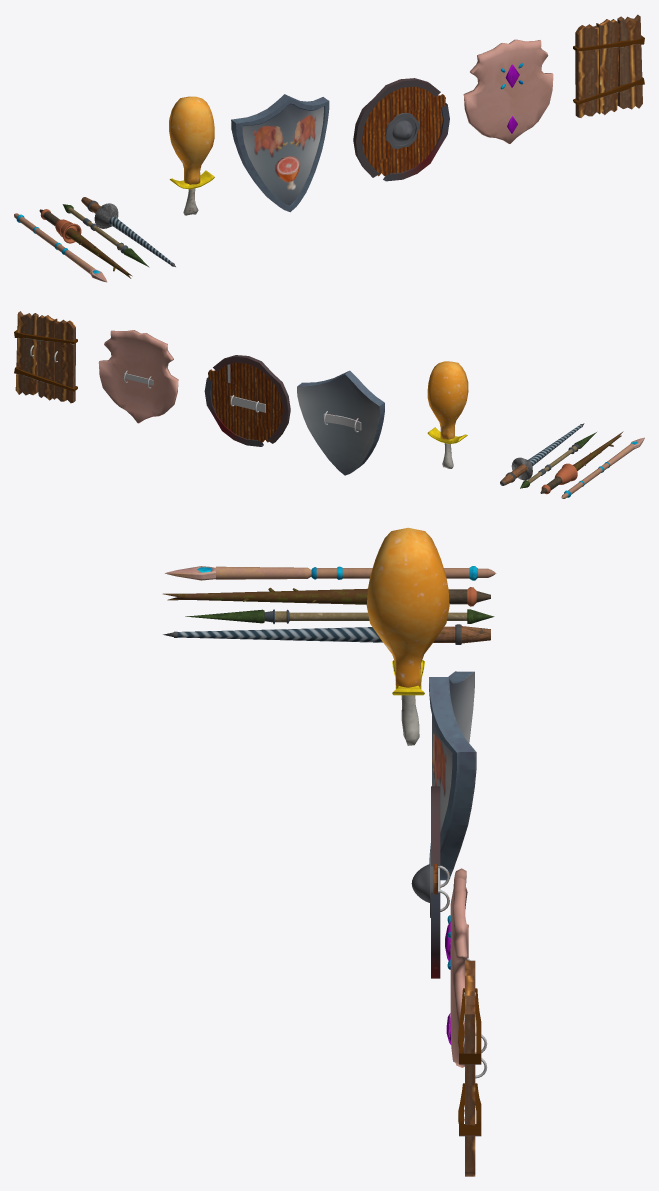
File: SM_Wepon_Pack.fbx
3 views of the same model, one above another, from view 1: azimuth 30°, elevation 25°; view 2: azimuth 150°, elevation 25°; view 3: azimuth 270°, elevation 25° (orthographic). The views are drawn at different scales.
Parts seen in each view (by area): view 1: SM_Kniels_Shield, SM_Borris_Shield, SM_Penelope_Shield, SM_Herberts_shield, SM_Drumstick, SM_Kniels_lance, SM_Herberts_lance, SM_Penelope_lance, SM_Borris_Lance; view 2: SM_Kniels_Shield, SM_Borris_Shield, SM_Penelope_Shield, SM_Herberts_shield, SM_Drumstick, SM_Kniels_lance, SM_Herberts_lance, SM_Penelope_lance, SM_Borris_Lance; view 3: SM_Drumstick, SM_Kniels_Shield, SM_Herberts_shield, SM_Kniels_lance, SM_Penelope_Shield, SM_Penelope_lance, SM_Herberts_lance, SM_Borris_Shield, SM_Borris_Lance.
Boxes of the visible parts, x1,y1,x2,y2 form: SM_Kniels_Shield: [231, 94, 329, 212]; SM_Borris_Shield: [353, 78, 449, 181]; SM_Penelope_Shield: [463, 39, 553, 143]; SM_Herberts_shield: [573, 14, 644, 117]; SM_Drumstick: [169, 96, 214, 215]; SM_Kniels_lance: [81, 197, 175, 266]; SM_Herberts_lance: [39, 209, 132, 278]; SM_Penelope_lance: [14, 213, 107, 282]; SM_Borris_Lance: [62, 204, 149, 267]; SM_Kniels_Shield: [297, 370, 384, 475]; SM_Borris_Shield: [204, 355, 290, 446]; SM_Penelope_Shield: [98, 330, 178, 423]; SM_Herberts_shield: [14, 311, 77, 403]; SM_Drumstick: [427, 361, 468, 468]; SM_Kniels_lance: [500, 423, 584, 485]; SM_Herberts_lance: [540, 431, 623, 494]; SM_Penelope_lance: [561, 437, 644, 498]; SM_Borris_Lance: [520, 432, 596, 488]; SM_Drumstick: [366, 527, 449, 745]; SM_Kniels_Shield: [429, 671, 476, 880]; SM_Herberts_shield: [458, 960, 487, 1176]; SM_Kniels_lance: [163, 624, 490, 644]; SM_Penelope_Shield: [445, 868, 470, 1067]; SM_Penelope_lance: [165, 566, 496, 580]; SM_Herberts_lance: [163, 587, 490, 606]; SM_Borris_Shield: [411, 786, 449, 978]; SM_Borris_Lance: [185, 609, 494, 623].
Size of the model in its own units: 3.91 by 0.8665 by 1.02.
